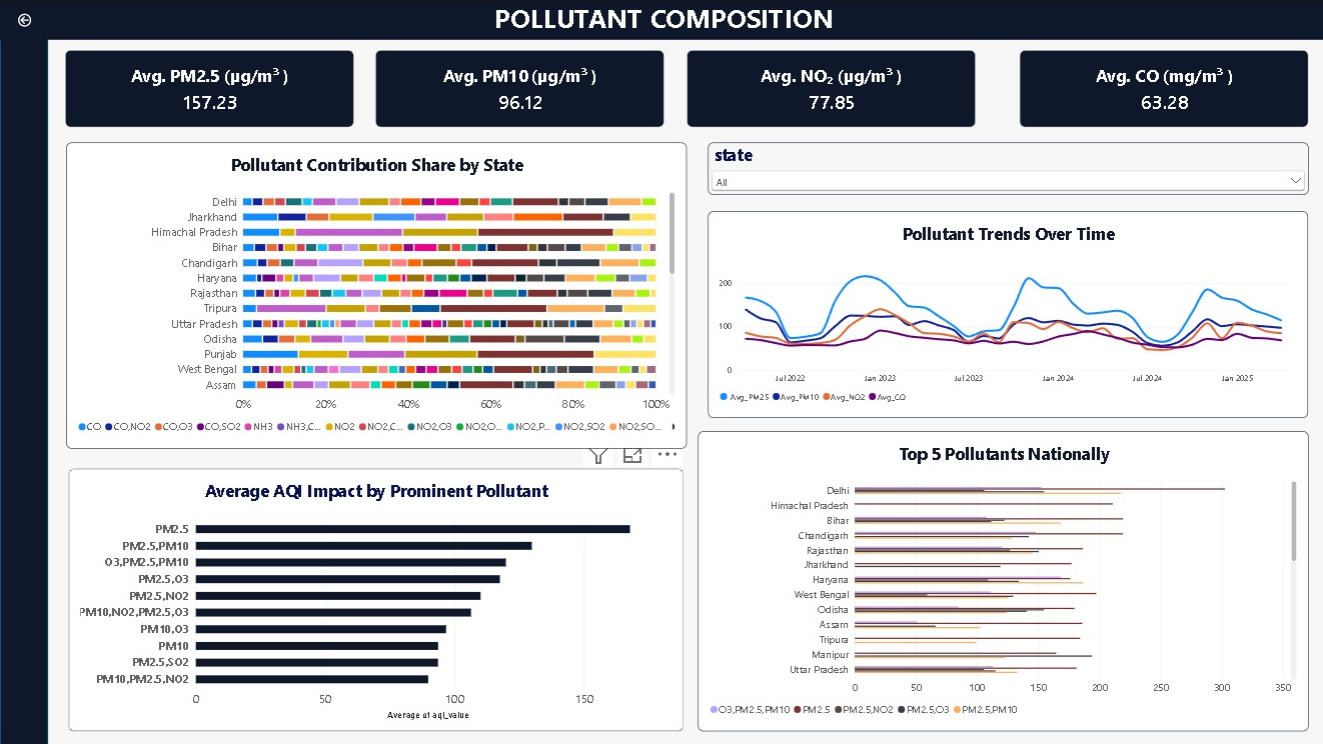

What the dashboard file says about the page in this screenshot:
{"tool":"powerbi","page":{"name":"Pollutant Composition","canvas":[1920,1080],"ordinal":1},"visuals":[{"type":"shape","box":[0,0,69.8,1081.3],"z":0},{"type":"textbox","box":[0,0,1920.1,57.9],"z":1000},{"type":"actionButton","box":[0,0,70.6,57.9],"z":2000},{"type":"cardVisual","fields":{"Data":["cleaned_aqi.Avg_PM10"]},"box":[542.9,72.4,418,112.2],"z":3000},{"type":"cardVisual","fields":{"Data":["cleaned_aqi.Avg_NO2"]},"box":[993.5,72.4,418,112.2],"z":5000},{"type":"cardVisual","fields":{"Data":["Avg(cleaned_aqi.Avg_PM25)"]},"box":[94.1,72.4,418,112.2],"z":6000},{"type":"cardVisual","fields":{"Data":["cleaned_aqi.Avg_CO"]},"box":[1474.9,72.4,418,112.2],"z":6001},{"type":"clusteredBarChart","title":"Average AQI Impact by Prominent Pollutant","fields":{"Category":["cleaned_aqi.prominent_pollutants"],"Y":["Avg(cleaned_aqi.aqi_value)"]},"box":[99.5,678.6,888.5,380],"z":6002},{"type":"lineChart","title":"Pollutant Trends Over Time","fields":{"Category":["cleaned_aqi.date.Variation.Date Hierarchy.Year","cleaned_aqi.date.Variation.Date Hierarchy.Month"],"Y":["Avg(cleaned_aqi.Avg_PM25)","cleaned_aqi.Avg_PM10","cleaned_aqi.Avg_NO2","cleaned_aqi.Avg_CO"]},"box":[1024.3,305.8,868.2,299.2],"z":6004},{"type":"hundredPercentStackedBarChart","title":"Pollutant Contribution Share by State","fields":{"Category":["cleaned_aqi.state"],"Series":["cleaned_aqi.prominent_pollutants"],"Y":["Avg(cleaned_aqi.aqi_value)"]},"box":[95.9,206.3,897.6,443.4],"z":6005},{"type":"clusteredBarChart","title":"Top 5 Pollutants Nationally","fields":{"Category":["cleaned_aqi.state"],"Series":["cleaned_aqi.prominent_pollutants"],"Y":["Avg(cleaned_aqi.aqi_value)"]},"box":[1009.8,624.3,883.1,434.3],"z":6006},{"type":"slicer","fields":{"Values":["cleaned_aqi.state"]},"box":[1024.3,206.3,868.6,76],"z":6007}]}

Visuals, with their boxes in screenshot pixels (x1, y1, x2, y2), scaled from the page's 1920x1080 canvas onto the 1323x744 screenshot:
shape: l=0, t=0, r=48, b=743
textbox: l=0, t=0, r=1322, b=40
actionButton: l=0, t=0, r=49, b=40
cardVisual - cleaned_aqi.Avg_PM10: l=374, t=50, r=662, b=127
cardVisual - cleaned_aqi.Avg_NO2: l=685, t=50, r=973, b=127
cardVisual - Avg(cleaned_aqi.Avg_PM25): l=65, t=50, r=353, b=127
cardVisual - cleaned_aqi.Avg_CO: l=1016, t=50, r=1304, b=127
"Average AQI Impact by Prominent Pollutant" clusteredBarChart: l=69, t=467, r=681, b=729
"Pollutant Trends Over Time" lineChart: l=706, t=211, r=1304, b=417
"Pollutant Contribution Share by State" hundredPercentStackedBarChart: l=66, t=142, r=685, b=448
"Top 5 Pollutants Nationally" clusteredBarChart: l=696, t=430, r=1304, b=729
slicer - cleaned_aqi.state: l=706, t=142, r=1304, b=194
